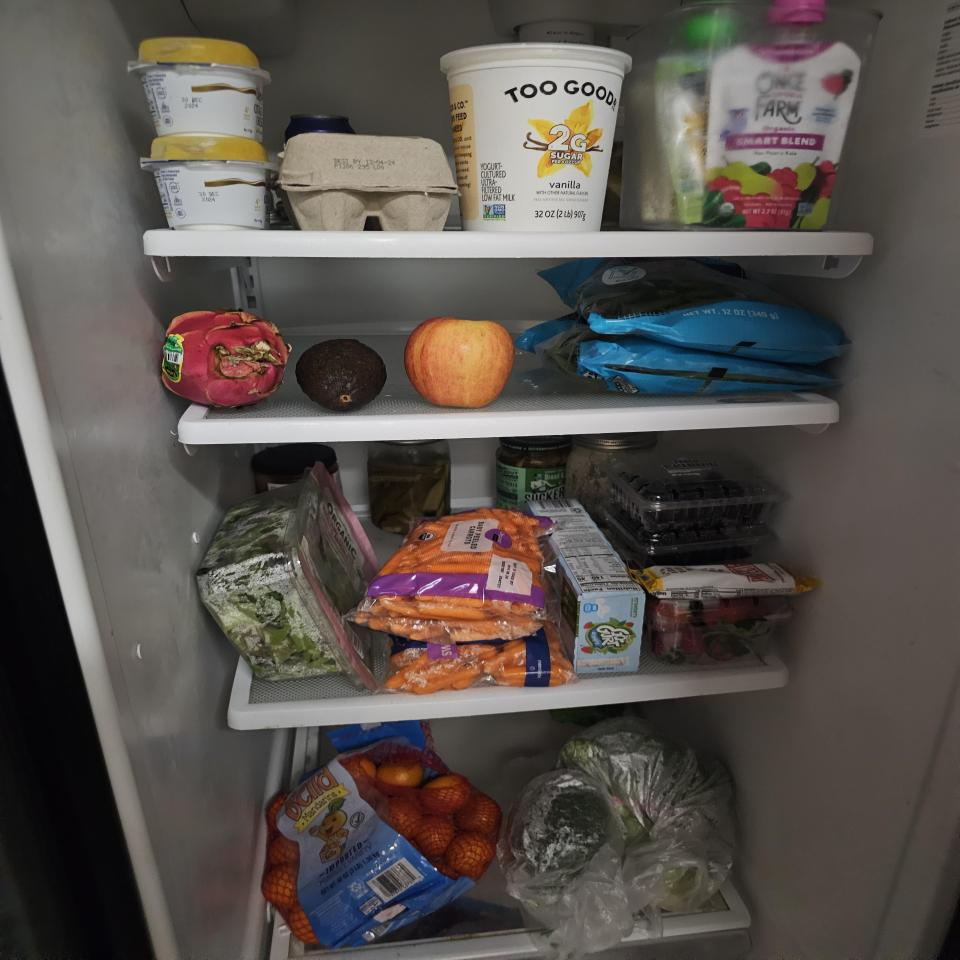Aguacate: (296, 340, 387, 413)
Huevos: (278, 133, 456, 231)
Manzana: (406, 319, 511, 408)
Yogur: (440, 43, 634, 234)
Zanahoria: (353, 509, 554, 642), (384, 637, 577, 694)
